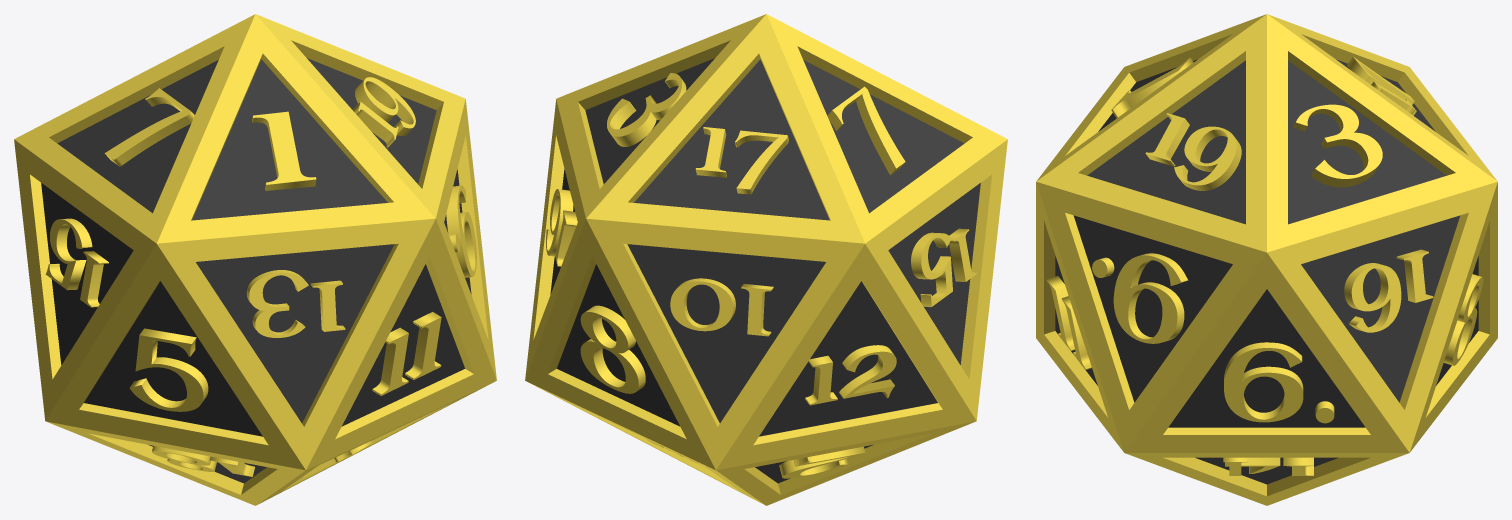
3 views of the same model, side by side, from view 1: azimuth 30°, elevation 25°; view 2: azimuth 150°, elevation 25°; view 3: azimuth 270°, elevation 25° (orthographic).
Parts seen in each view (by area): view 1: Icosphere.002, d20_face_13, d20_face_1, d20_face_5, d20_face_7, d20_face_15, d20_face_11, Text.071, d20_face_19, Text.064, Text.072, Text.063 (+5 smaller); view 2: Icosphere.002, d20_face_10, d20_face_17, d20_face_12, d20_face_7, d20_face_15, d20_face_8, Text.069, d20_face_3, Text.070, Text.064, Text.065 (+5 smaller); view 3: Icosphere.002, d20_face_16, d20_face_3, d20_face_6, d20_face_19, d20_face_9, Text.067, Text.068, Text.066, Text.059, Text.060, Text.072 (+5 smaller).
Boxes of the visible parts, box(x1,y1,x2,y2) form: Icosphere.002: box(14, 14, 496, 505); d20_face_13: box(196, 244, 394, 422); d20_face_1: box(192, 59, 387, 220); d20_face_5: box(84, 281, 262, 436); d20_face_7: box(57, 60, 218, 213); d20_face_15: box(41, 183, 133, 364); d20_face_11: box(342, 264, 464, 426); Text.071: box(130, 328, 208, 411); d20_face_19: box(307, 58, 436, 184); Text.064: box(45, 218, 108, 307); Text.072: box(372, 312, 441, 395); Text.063: box(246, 270, 345, 337); Icosphere.002: box(525, 14, 1007, 505); d20_face_10: box(627, 244, 825, 422); d20_face_17: box(634, 59, 829, 220); d20_face_12: box(759, 281, 937, 436); d20_face_7: box(803, 60, 964, 213); d20_face_15: box(888, 183, 980, 364); d20_face_8: box(557, 264, 679, 426); Text.069: box(580, 305, 645, 393); d20_face_3: box(585, 58, 714, 184); Text.070: box(805, 345, 896, 405); Text.064: box(911, 228, 976, 307); Text.065: box(670, 278, 773, 336); Icosphere.002: box(1036, 14, 1497, 505); d20_face_16: box(1301, 215, 1460, 402); d20_face_3: box(1288, 60, 1446, 224); d20_face_6: box(1168, 289, 1365, 427); d20_face_19: box(1087, 60, 1245, 224); d20_face_9: box(1073, 215, 1232, 402); Text.067: box(1092, 253, 1188, 343); Text.068: box(1224, 342, 1334, 423); Text.066: box(1344, 249, 1433, 332); Text.059: box(1145, 113, 1241, 190); Text.060: box(1293, 104, 1382, 187); Text.072: box(1047, 276, 1091, 369).
Size of the model in its own units: 3.01 by 3.36 by 2.86.
